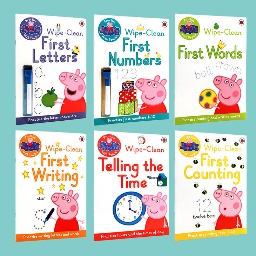Peppa: (50, 190, 84, 232), (55, 69, 87, 113), (210, 186, 242, 230), (210, 73, 243, 115), (134, 75, 167, 115), (139, 191, 168, 230)
